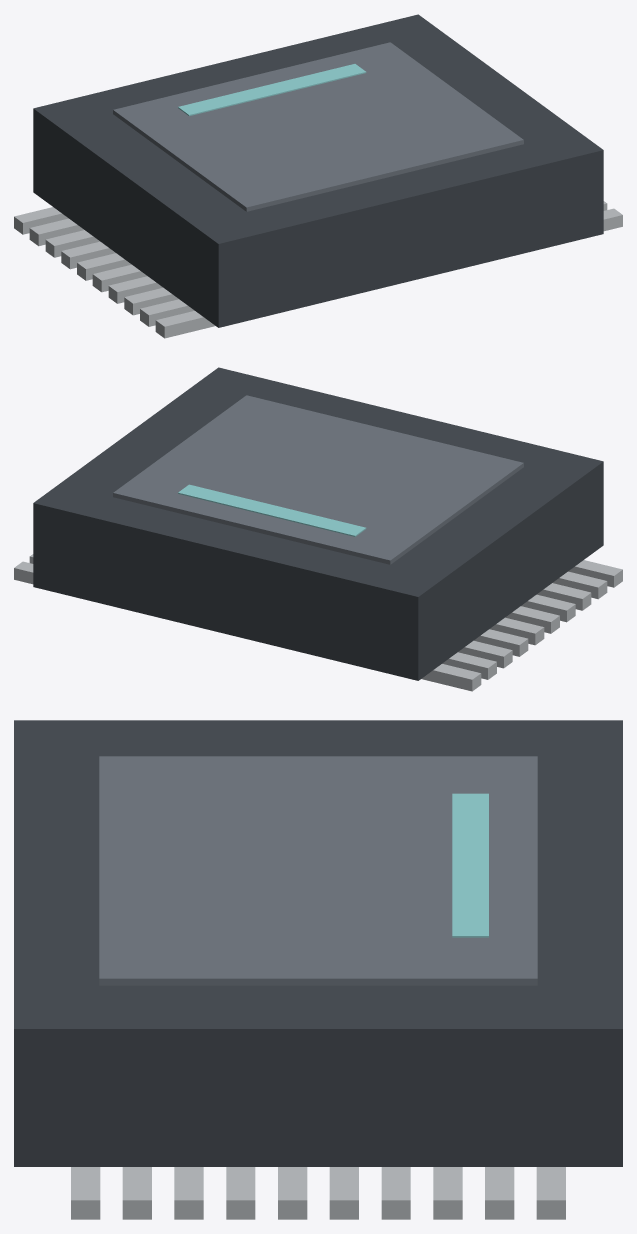
The picture shows the model from 3 angles, top to bottom: view 1: azimuth 30°, elevation 25°; view 2: azimuth 150°, elevation 25°; view 3: azimuth 270°, elevation 25°; orthographic projection. The views are drawn at different scales.
Parts seen in each view (by area): view 1: 000_Black_Epoxy__PSMAT__Black_Epoxy, 001_Silicon_Die__PSMAT__Silicon_Die, 002_Silkscreen_Cyan__PSMAT__Silkscreen_Cyan, 022_Solder_Tin__PSMAT__Solder_Tin, 014_Solder_Tin__PSMAT__Solder_Tin, 006_Solder_Tin__PSMAT__Solder_Tin, 008_Solder_Tin__PSMAT__Solder_Tin, 016_Solder_Tin__PSMAT__Solder_Tin, 010_Solder_Tin__PSMAT__Solder_Tin, 018_Solder_Tin__PSMAT__Solder_Tin, 004_Solder_Tin__PSMAT__Solder_Tin, 020_Solder_Tin__PSMAT__Solder_Tin (+1 smaller); view 2: 000_Black_Epoxy__PSMAT__Black_Epoxy, 001_Silicon_Die__PSMAT__Silicon_Die, 002_Silkscreen_Cyan__PSMAT__Silkscreen_Cyan, 004_Solder_Tin__PSMAT__Solder_Tin, 012_Solder_Tin__PSMAT__Solder_Tin, 020_Solder_Tin__PSMAT__Solder_Tin, 010_Solder_Tin__PSMAT__Solder_Tin, 018_Solder_Tin__PSMAT__Solder_Tin, 008_Solder_Tin__PSMAT__Solder_Tin, 016_Solder_Tin__PSMAT__Solder_Tin, 006_Solder_Tin__PSMAT__Solder_Tin, 022_Solder_Tin__PSMAT__Solder_Tin (+1 smaller); view 3: 000_Black_Epoxy__PSMAT__Black_Epoxy, 001_Silicon_Die__PSMAT__Silicon_Die, 002_Silkscreen_Cyan__PSMAT__Silkscreen_Cyan, 003_Solder_Tin__PSMAT__Solder_Tin, 005_Solder_Tin__PSMAT__Solder_Tin, 007_Solder_Tin__PSMAT__Solder_Tin, 009_Solder_Tin__PSMAT__Solder_Tin, 011_Solder_Tin__PSMAT__Solder_Tin, 013_Solder_Tin__PSMAT__Solder_Tin, 015_Solder_Tin__PSMAT__Solder_Tin, 017_Solder_Tin__PSMAT__Solder_Tin, 019_Solder_Tin__PSMAT__Solder_Tin (+1 smaller).
Boxes of the visible parts, <box> form: 000_Black_Epoxy__PSMAT__Black_Epoxy: <box>33,14,603,327</box>; 001_Silicon_Die__PSMAT__Silicon_Die: <box>113,42,523,211</box>; 002_Silkscreen_Cyan__PSMAT__Silkscreen_Cyan: <box>178,64,366,115</box>; 022_Solder_Tin__PSMAT__Solder_Tin: <box>155,311,215,338</box>; 014_Solder_Tin__PSMAT__Solder_Tin: <box>92,264,147,292</box>; 006_Solder_Tin__PSMAT__Solder_Tin: <box>29,218,83,246</box>; 008_Solder_Tin__PSMAT__Solder_Tin: <box>45,230,99,257</box>; 016_Solder_Tin__PSMAT__Solder_Tin: <box>108,276,162,303</box>; 010_Solder_Tin__PSMAT__Solder_Tin: <box>61,241,115,269</box>; 018_Solder_Tin__PSMAT__Solder_Tin: <box>124,287,178,315</box>; 004_Solder_Tin__PSMAT__Solder_Tin: <box>14,207,68,234</box>; 020_Solder_Tin__PSMAT__Solder_Tin: <box>140,299,194,326</box>; 000_Black_Epoxy__PSMAT__Black_Epoxy: <box>33,367,603,680</box>; 001_Silicon_Die__PSMAT__Silicon_Die: <box>113,395,523,564</box>; 002_Silkscreen_Cyan__PSMAT__Silkscreen_Cyan: <box>178,484,366,536</box>; 004_Solder_Tin__PSMAT__Solder_Tin: <box>421,664,481,691</box>; 012_Solder_Tin__PSMAT__Solder_Tin: <box>489,617,544,645</box>; 020_Solder_Tin__PSMAT__Solder_Tin: <box>553,571,607,599</box>; 010_Solder_Tin__PSMAT__Solder_Tin: <box>474,629,528,656</box>; 018_Solder_Tin__PSMAT__Solder_Tin: <box>537,583,591,610</box>; 008_Solder_Tin__PSMAT__Solder_Tin: <box>458,640,512,668</box>; 016_Solder_Tin__PSMAT__Solder_Tin: <box>521,594,575,622</box>; 006_Solder_Tin__PSMAT__Solder_Tin: <box>442,652,496,679</box>; 022_Solder_Tin__PSMAT__Solder_Tin: <box>568,560,622,587</box>; 000_Black_Epoxy__PSMAT__Black_Epoxy: <box>14,720,622,1166</box>; 001_Silicon_Die__PSMAT__Silicon_Die: <box>99,756,537,985</box>; 002_Silkscreen_Cyan__PSMAT__Silkscreen_Cyan: <box>452,793,488,937</box>; 003_Solder_Tin__PSMAT__Solder_Tin: <box>536,1167,565,1219</box>; 005_Solder_Tin__PSMAT__Solder_Tin: <box>485,1167,514,1219</box>; 007_Solder_Tin__PSMAT__Solder_Tin: <box>433,1167,462,1219</box>; 009_Solder_Tin__PSMAT__Solder_Tin: <box>381,1167,410,1219</box>; 011_Solder_Tin__PSMAT__Solder_Tin: <box>329,1167,358,1219</box>; 013_Solder_Tin__PSMAT__Solder_Tin: <box>278,1167,307,1219</box>; 015_Solder_Tin__PSMAT__Solder_Tin: <box>226,1167,255,1219</box>; 017_Solder_Tin__PSMAT__Solder_Tin: <box>174,1167,203,1219</box>; 019_Solder_Tin__PSMAT__Solder_Tin: <box>122,1167,151,1219</box>.
Bounding box in the file's own units: 0.0143 × 0.0031 × 0.01.
